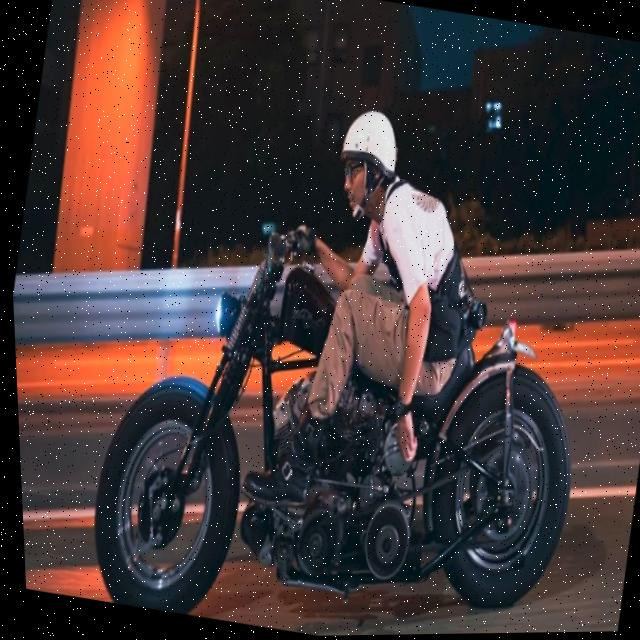helmet: (321, 99, 411, 233)
